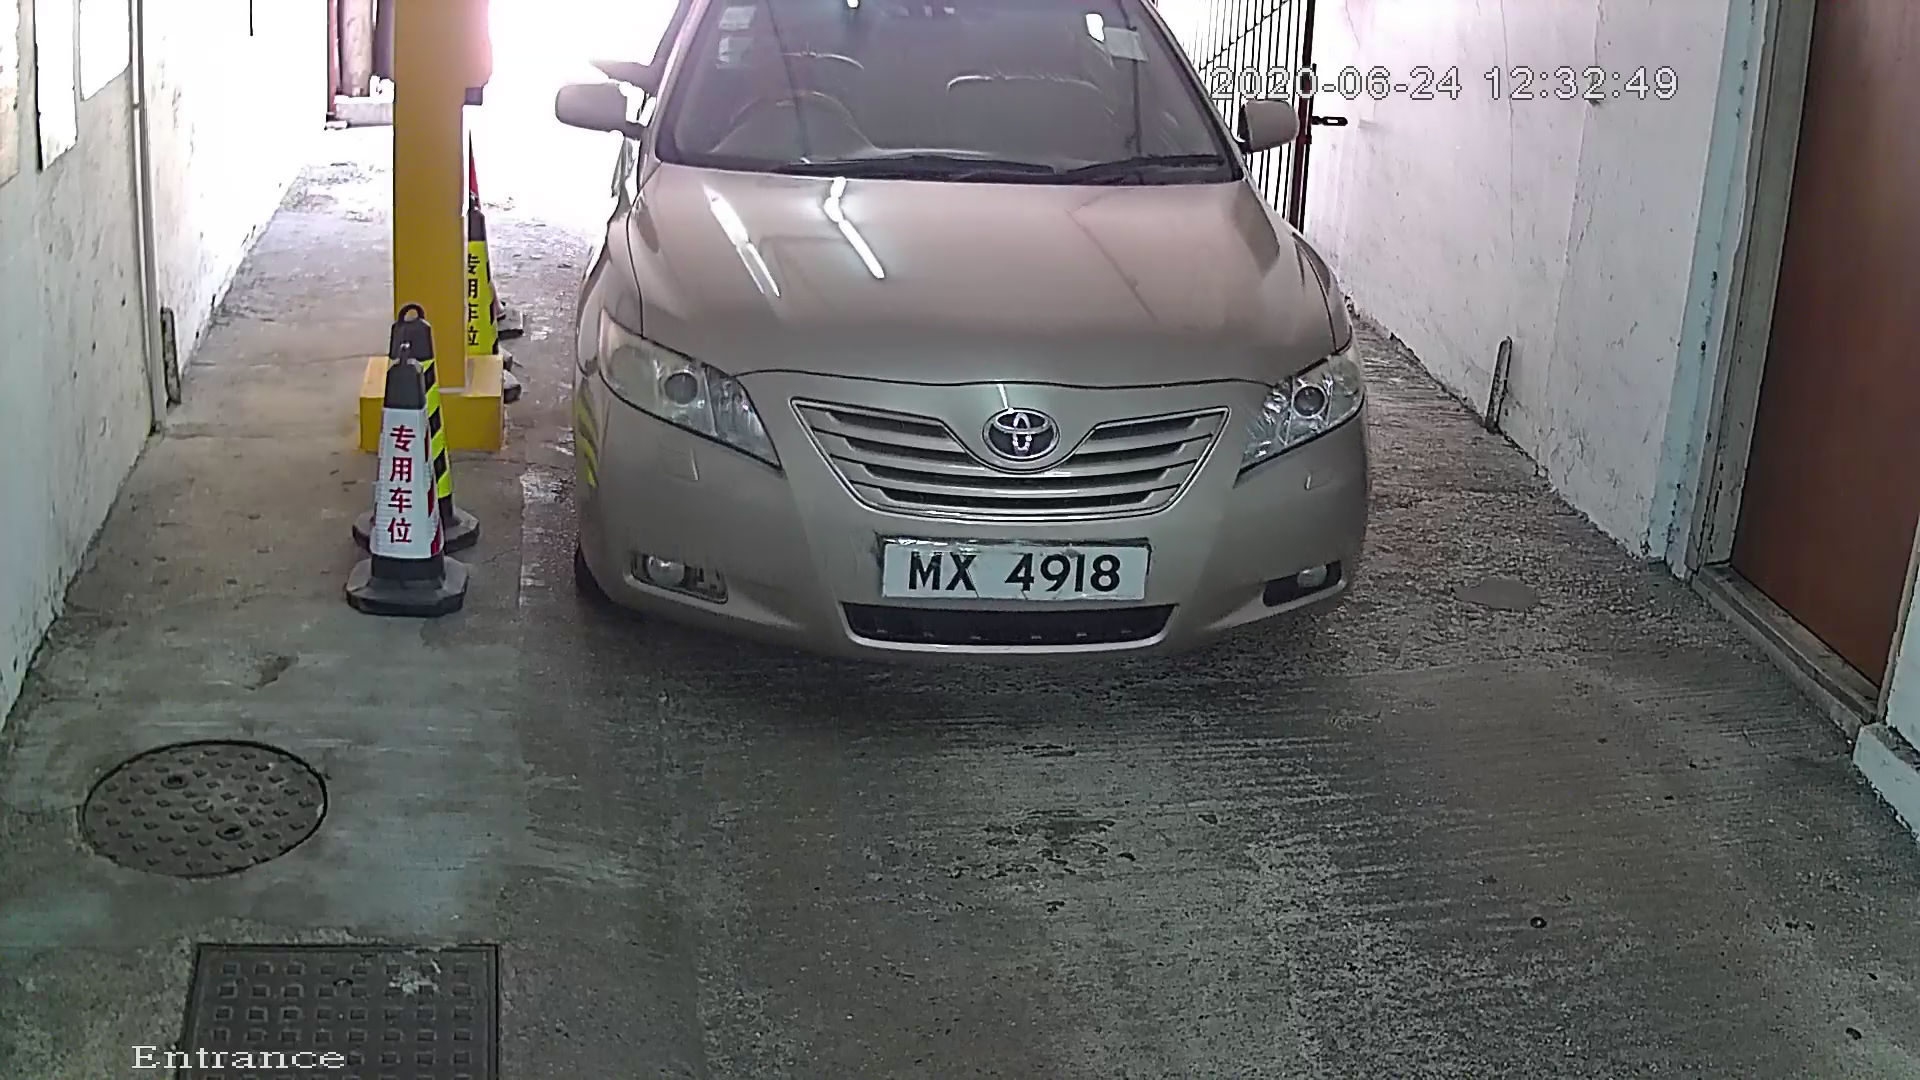Car: (487, 1, 1430, 790)
License Plate: (865, 524, 1166, 621)
